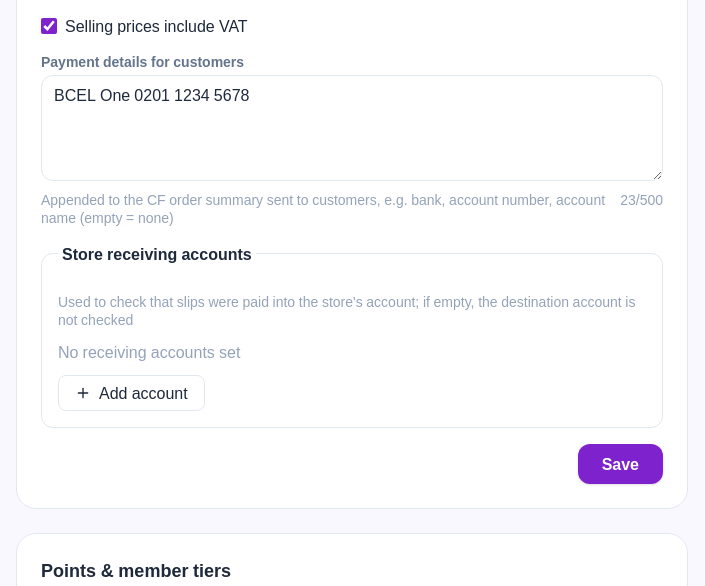
Scenario: StoreSettingsForm › ບັນຊີຮັບເງິນ (receivingAccounts) › ທະນາຄານວ່າງ → error ແລະ ບໍ່ຍິງ API
The width and height of the screenshot is (705, 586).
(page scrolled)
Expected: the text "No receiving accounts set" is shown, [58,338,240,364]
Click the button "Add account": (131, 392) [58,374,205,410]
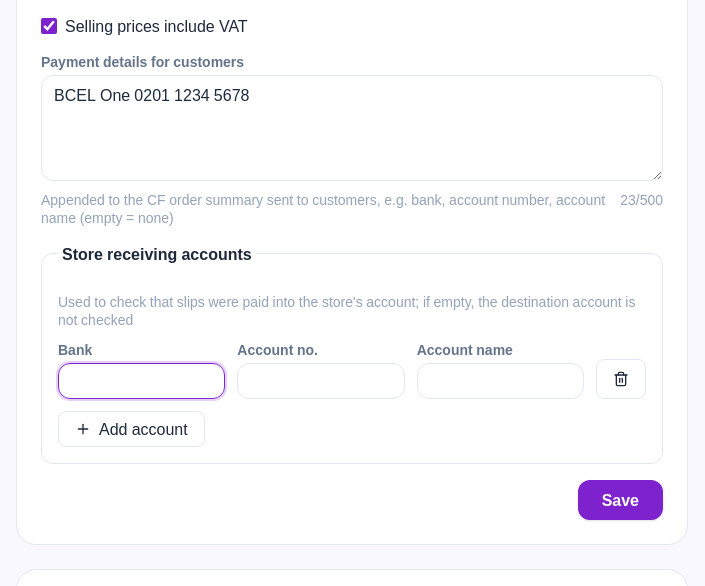
In the field labelled "Account no.": (321, 380) [237,362,405,398], type "0101"
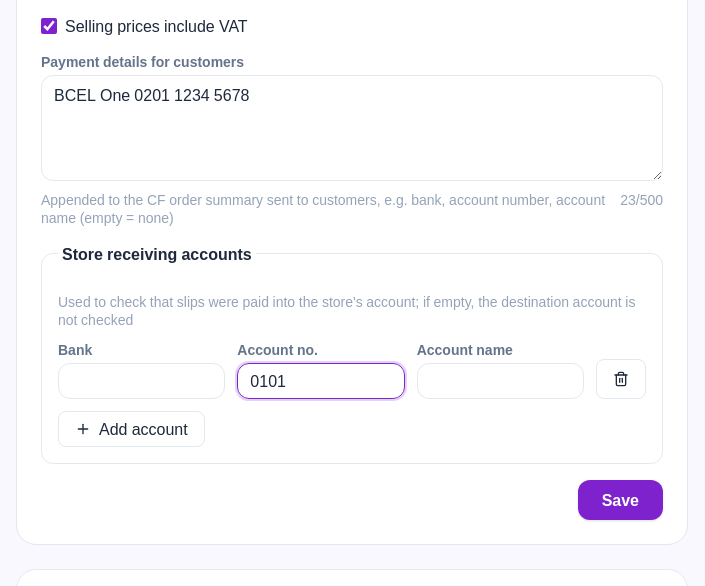
Click the button "Save": (620, 500) [578,480,663,520]
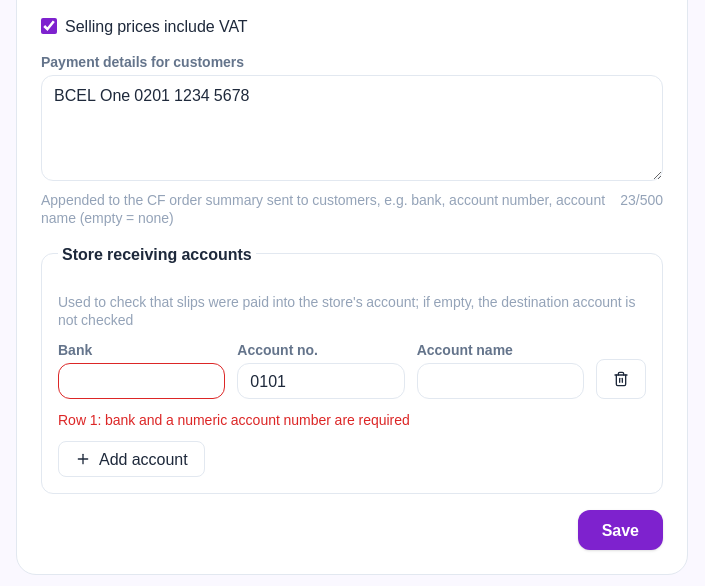
Now the text "Row 1: bank and a numeric account number are required" is shown, box [58,408,410,430]
